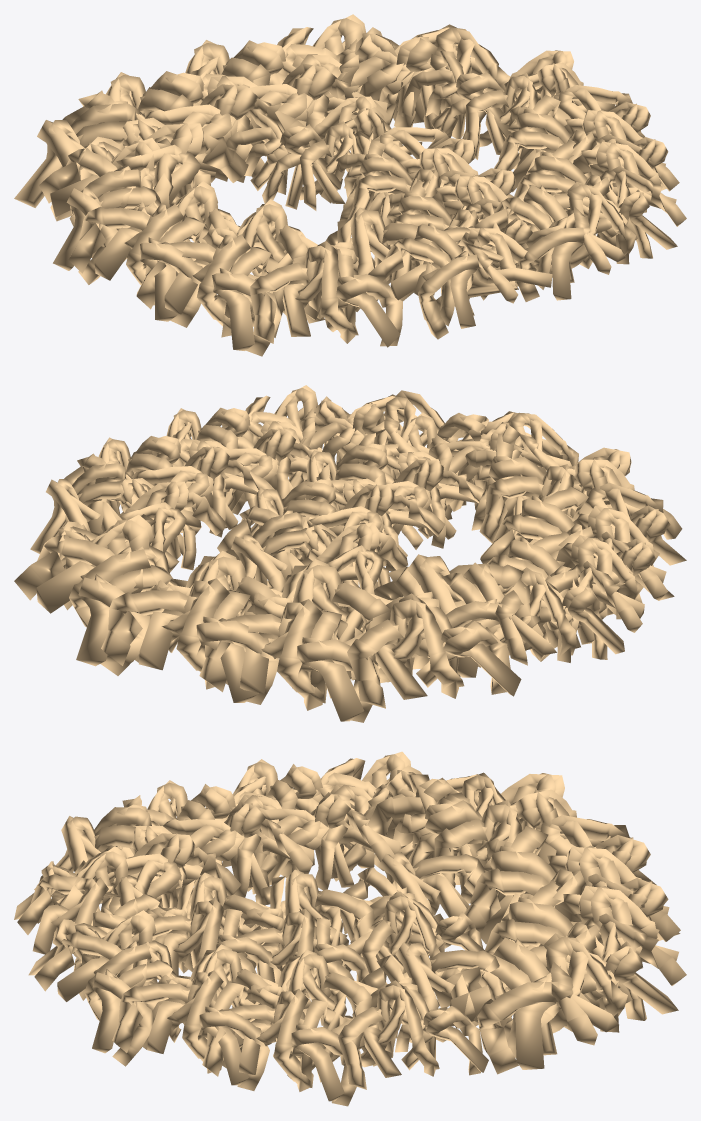
File: noodles.glb
3 renders of one model, top to bottom at view 1: azimuth 30°, elevation 25°; view 2: azimuth 150°, elevation 25°; view 3: azimuth 270°, elevation 25°, orthographic. The views are drawn at different scales.
Parts seen in each view (by area): view 1: Wood (×4); view 2: Wood (×4); view 3: Wood (×4).
Part boxes in pixels (box(x1,y1,x2,y2)): Wood (×4): box(14, 14, 686, 356); Wood (×4): box(14, 385, 686, 722); Wood (×4): box(14, 751, 686, 1106).
Size of the model in its own units: 4.68 by 0.8231 by 4.48.
